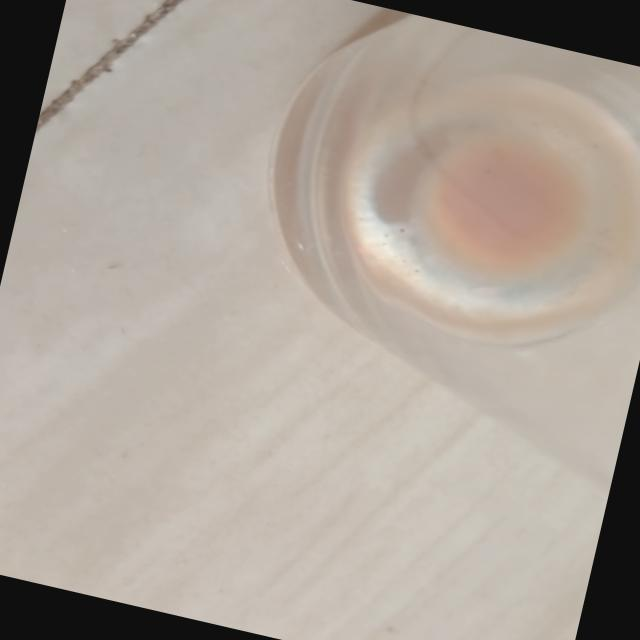glass-VX4N: (208, 0, 640, 503)
